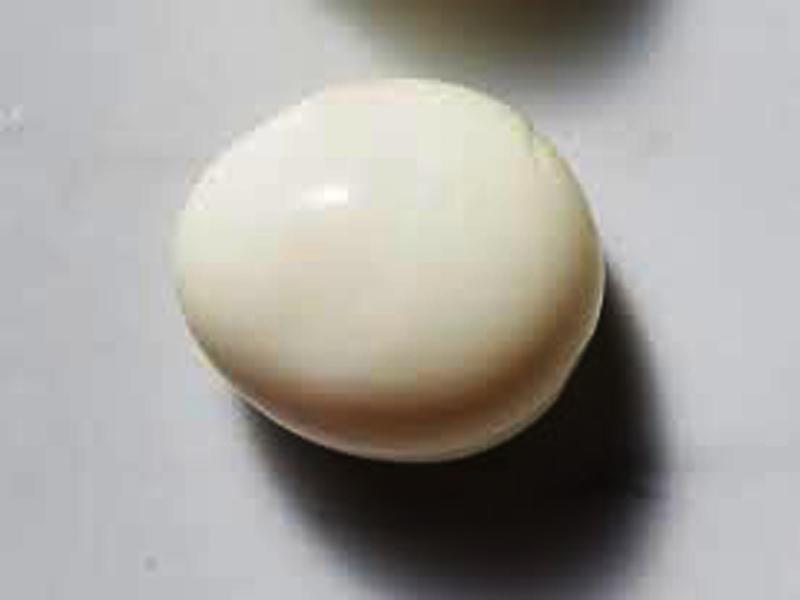Eggs: (177, 79, 606, 462)
